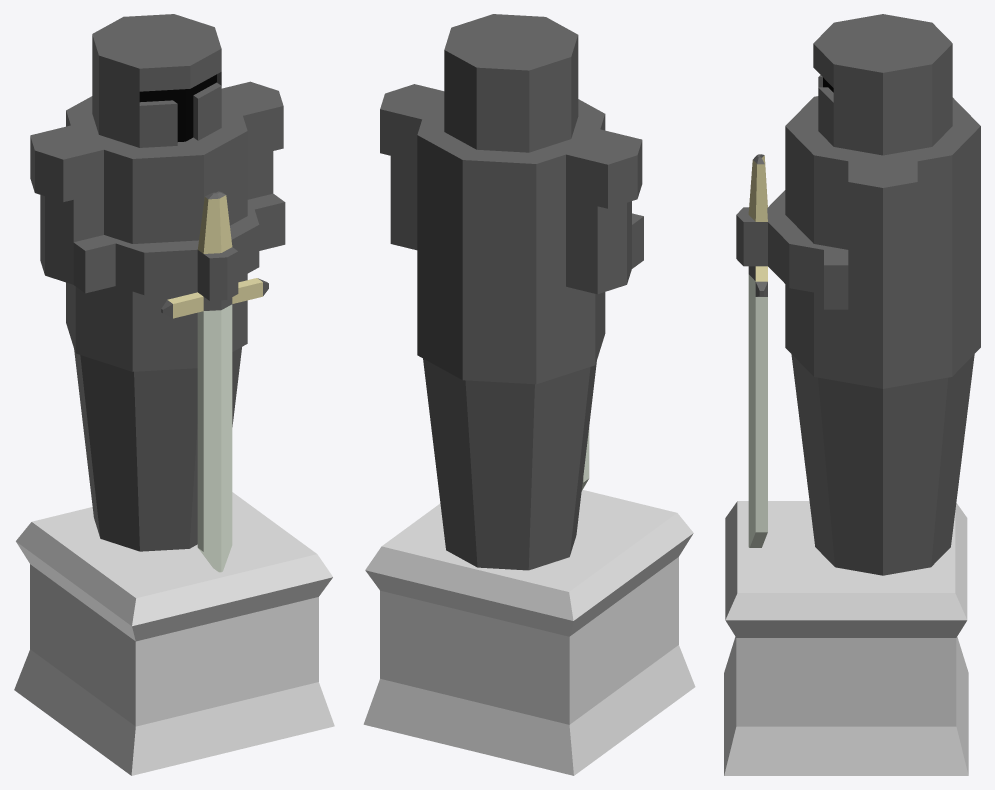
File: STATUE.fbx
The picture shows the model from 3 angles, left to right: view 1: azimuth 30°, elevation 25°; view 2: azimuth 150°, elevation 25°; view 3: azimuth 270°, elevation 25°; orthographic projection. The views are drawn at different scales.
Parts seen in each view (by area): view 1: Cylinder, Plane; view 2: Cylinder, Plane; view 3: Cylinder, Plane.
Part boxes in pixels (x1=…): Cylinder: x1=30, y1=14, x2=285, y2=572; Plane: x1=14, y1=492, x2=334, y2=775; Cylinder: x1=380, y1=14, x2=643, y2=570; Plane: x1=363, y1=490, x2=695, y2=775; Cylinder: x1=736, y1=14, x2=980, y2=575; Plane: x1=724, y1=501, x2=968, y2=775.
Bounding box in the file's own units: 96 × 246 × 84.
